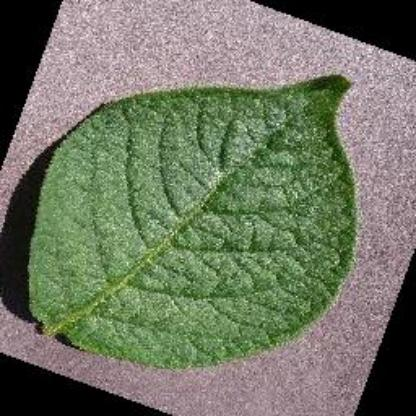Healthy-plant: (18, 36, 385, 371)
